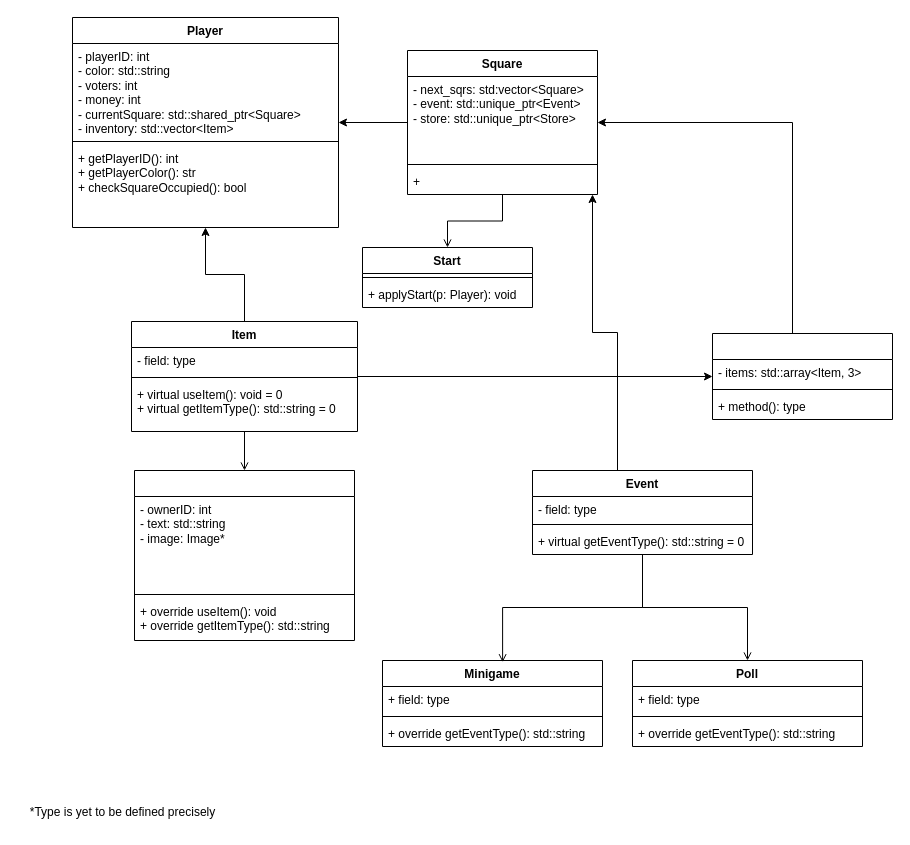
This 910x845 diagram has some shape labels left out. The shapes that lost their labels are listed below. From the top down, each one's box as (x1, y1, x2, y2) in pixels, then its label:
(712, 332, 892, 420): Store
(134, 470, 354, 640): Billboard
